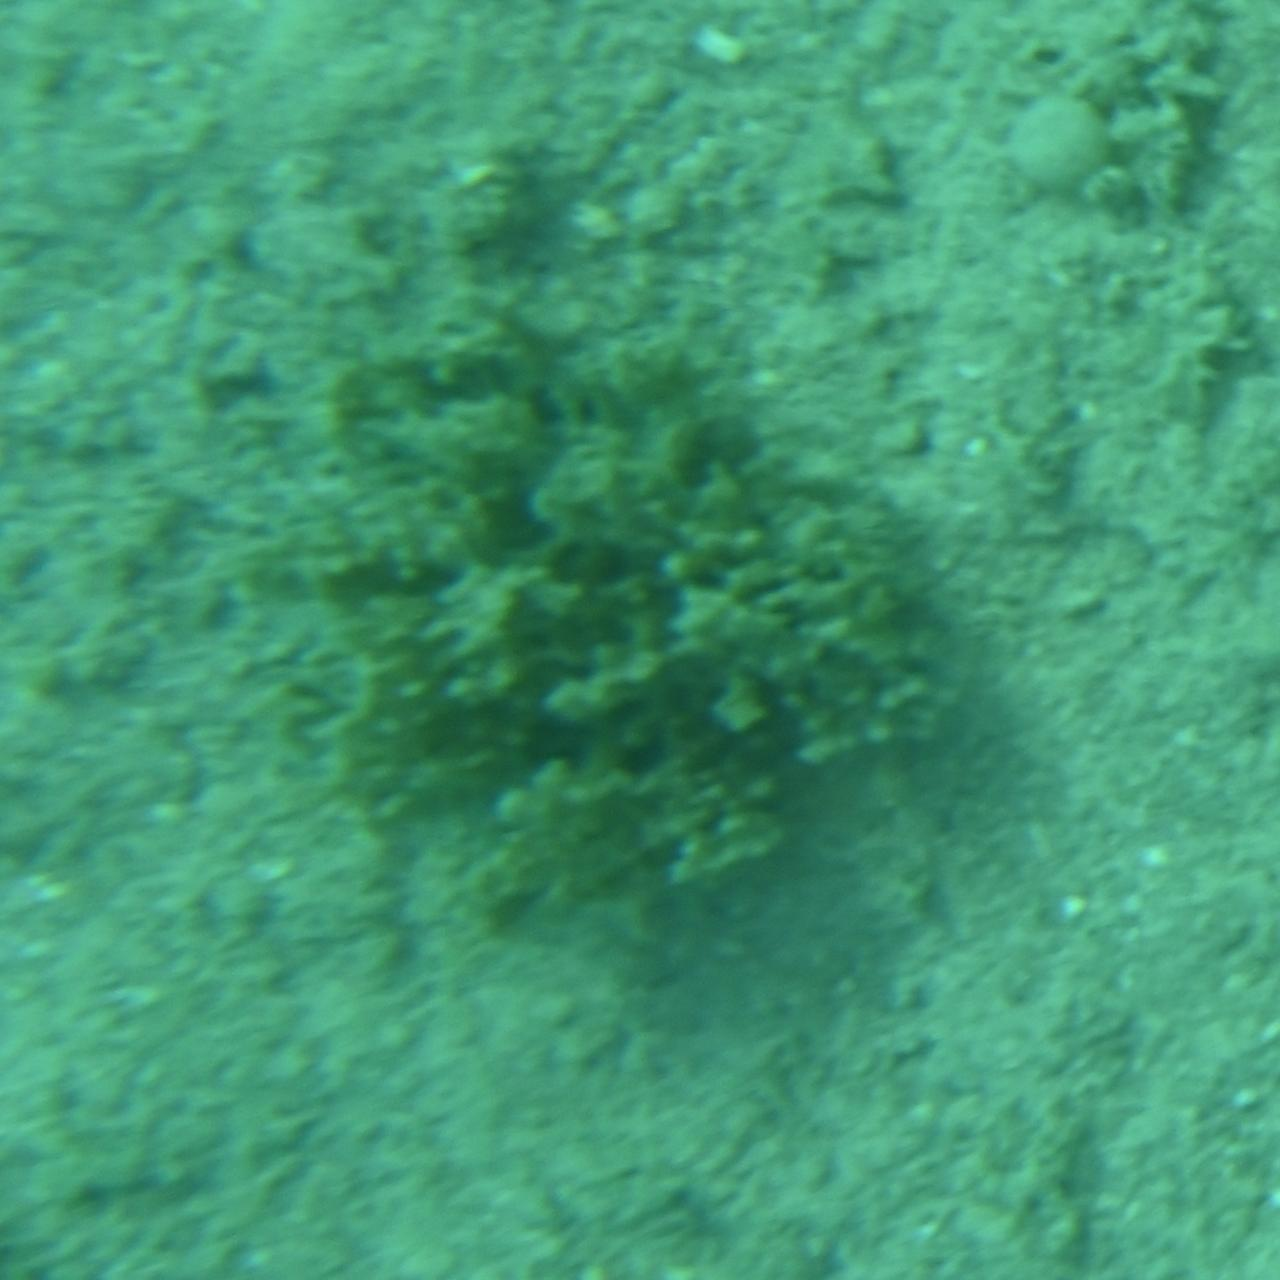Phaeophyceae -cfr Cystoseira-: (319, 330, 961, 950)
